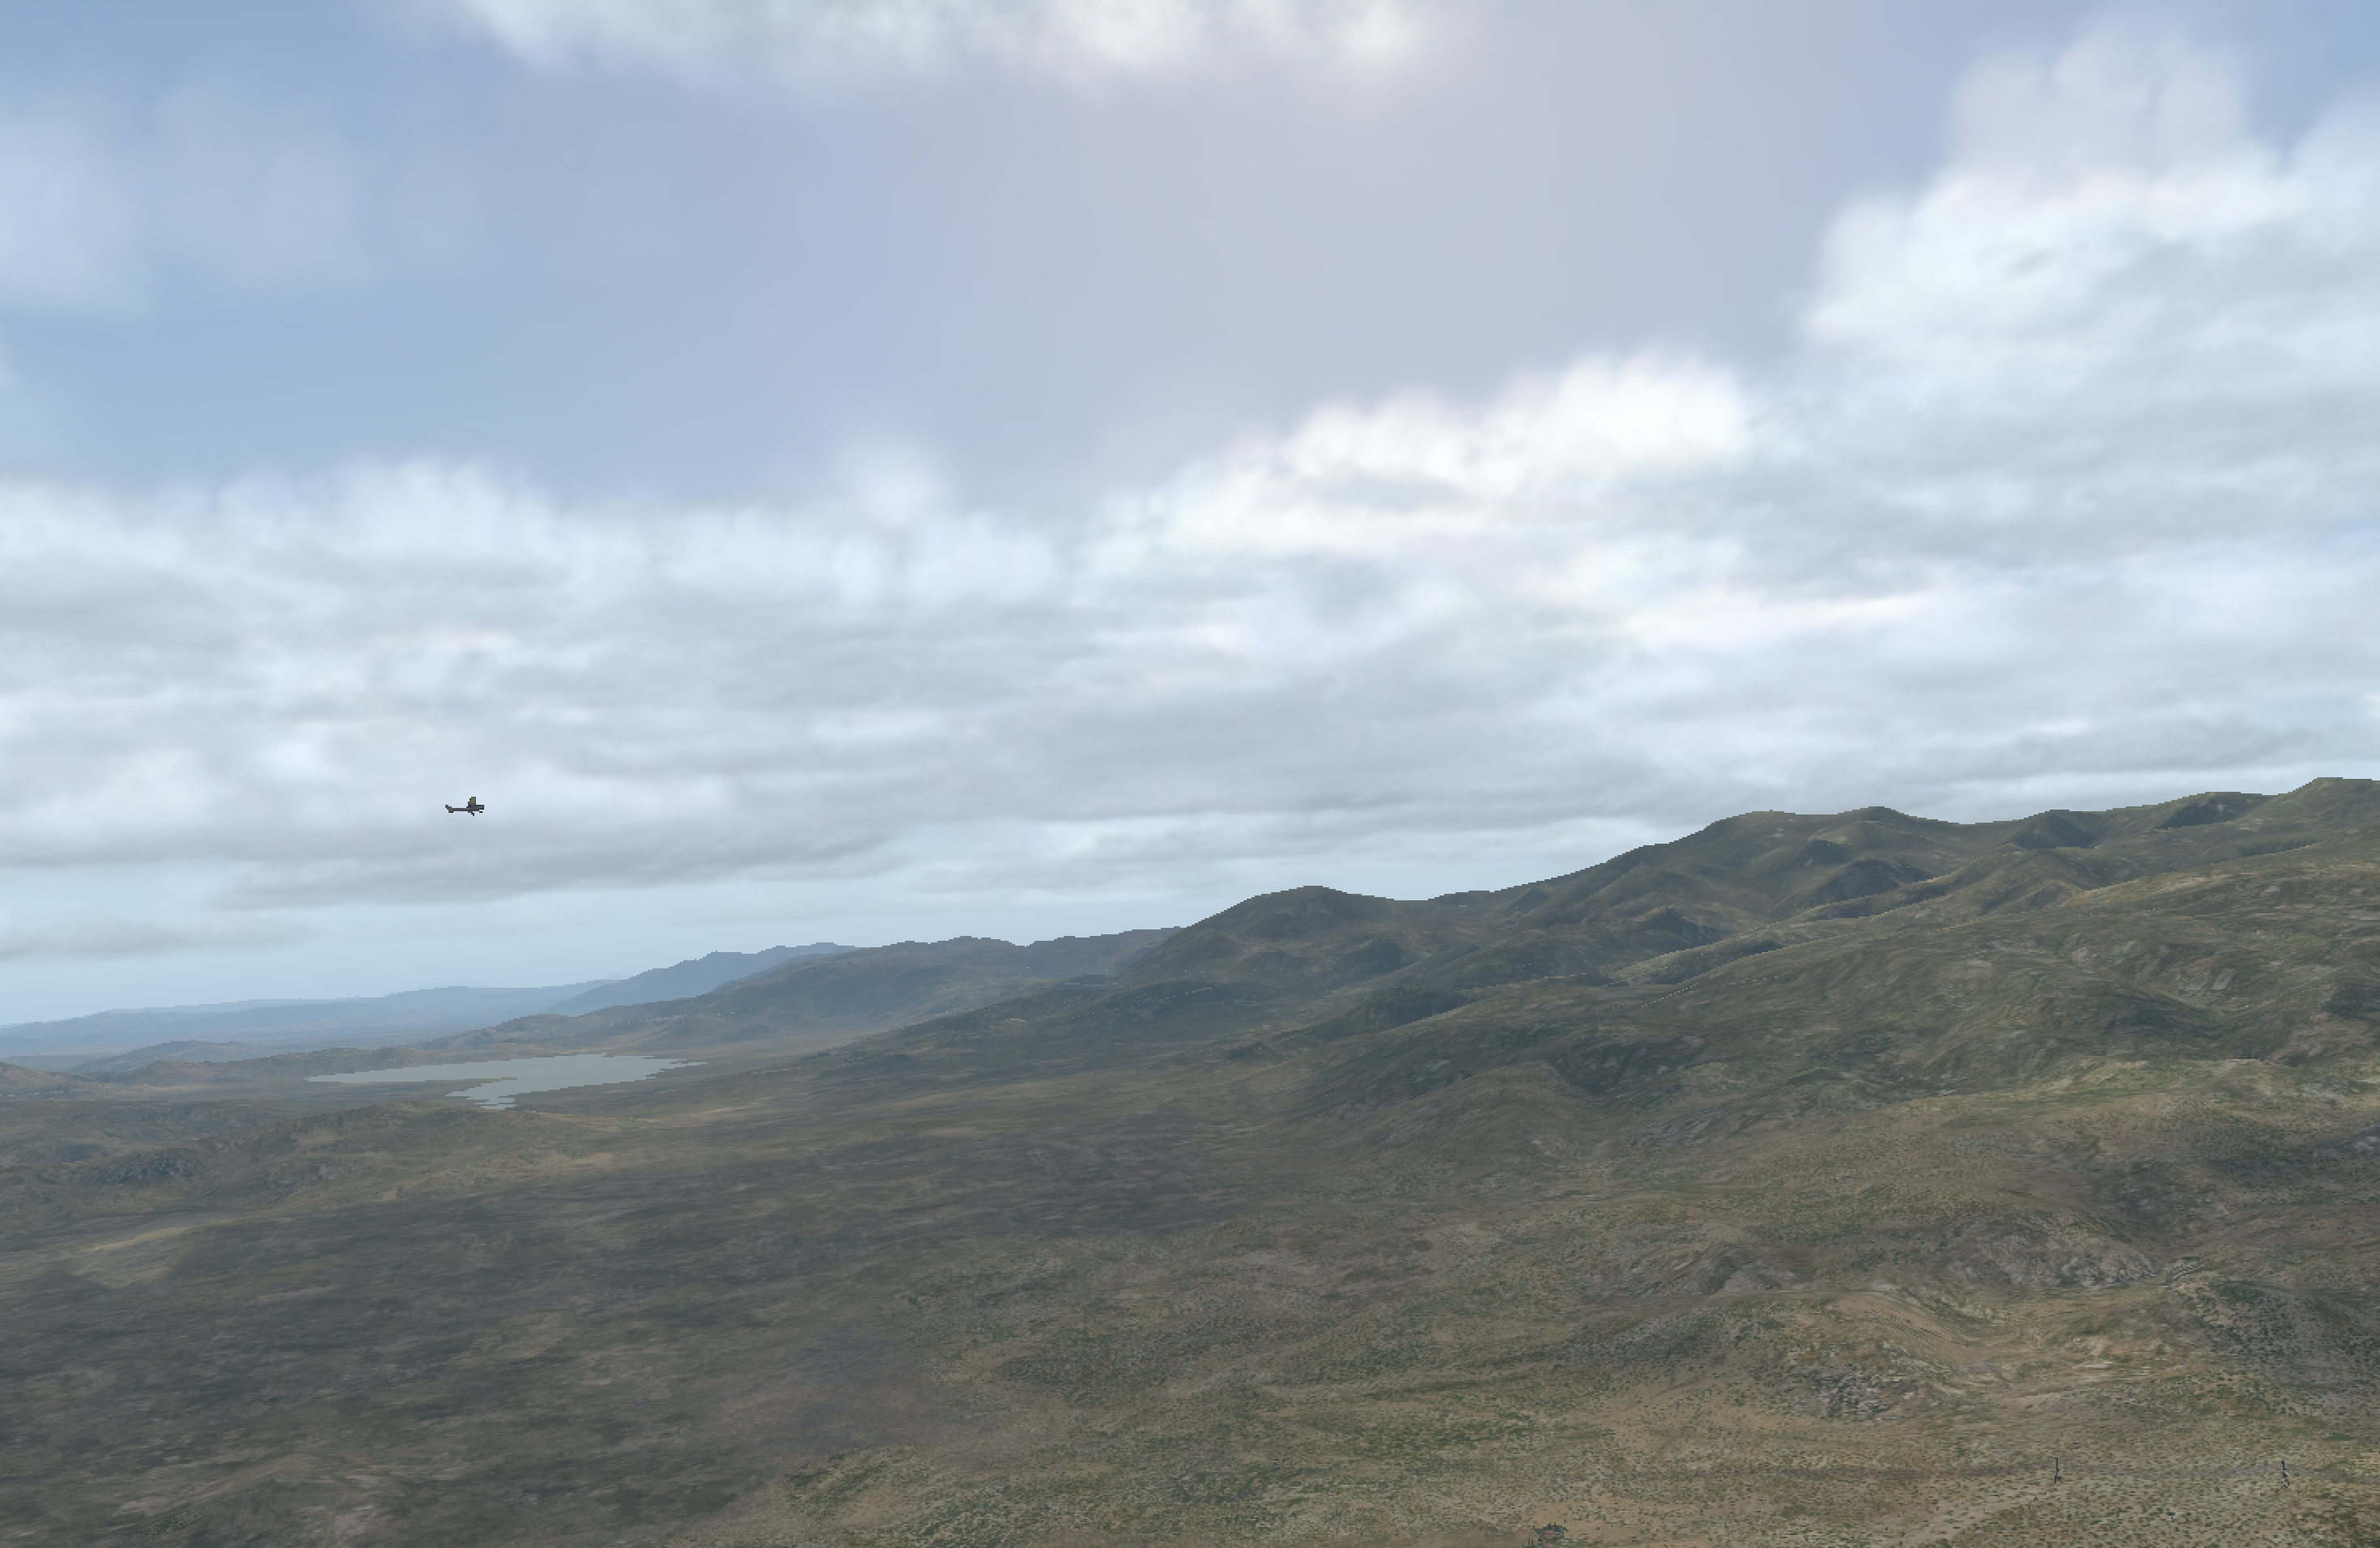aircraft: (456, 802, 491, 814)
